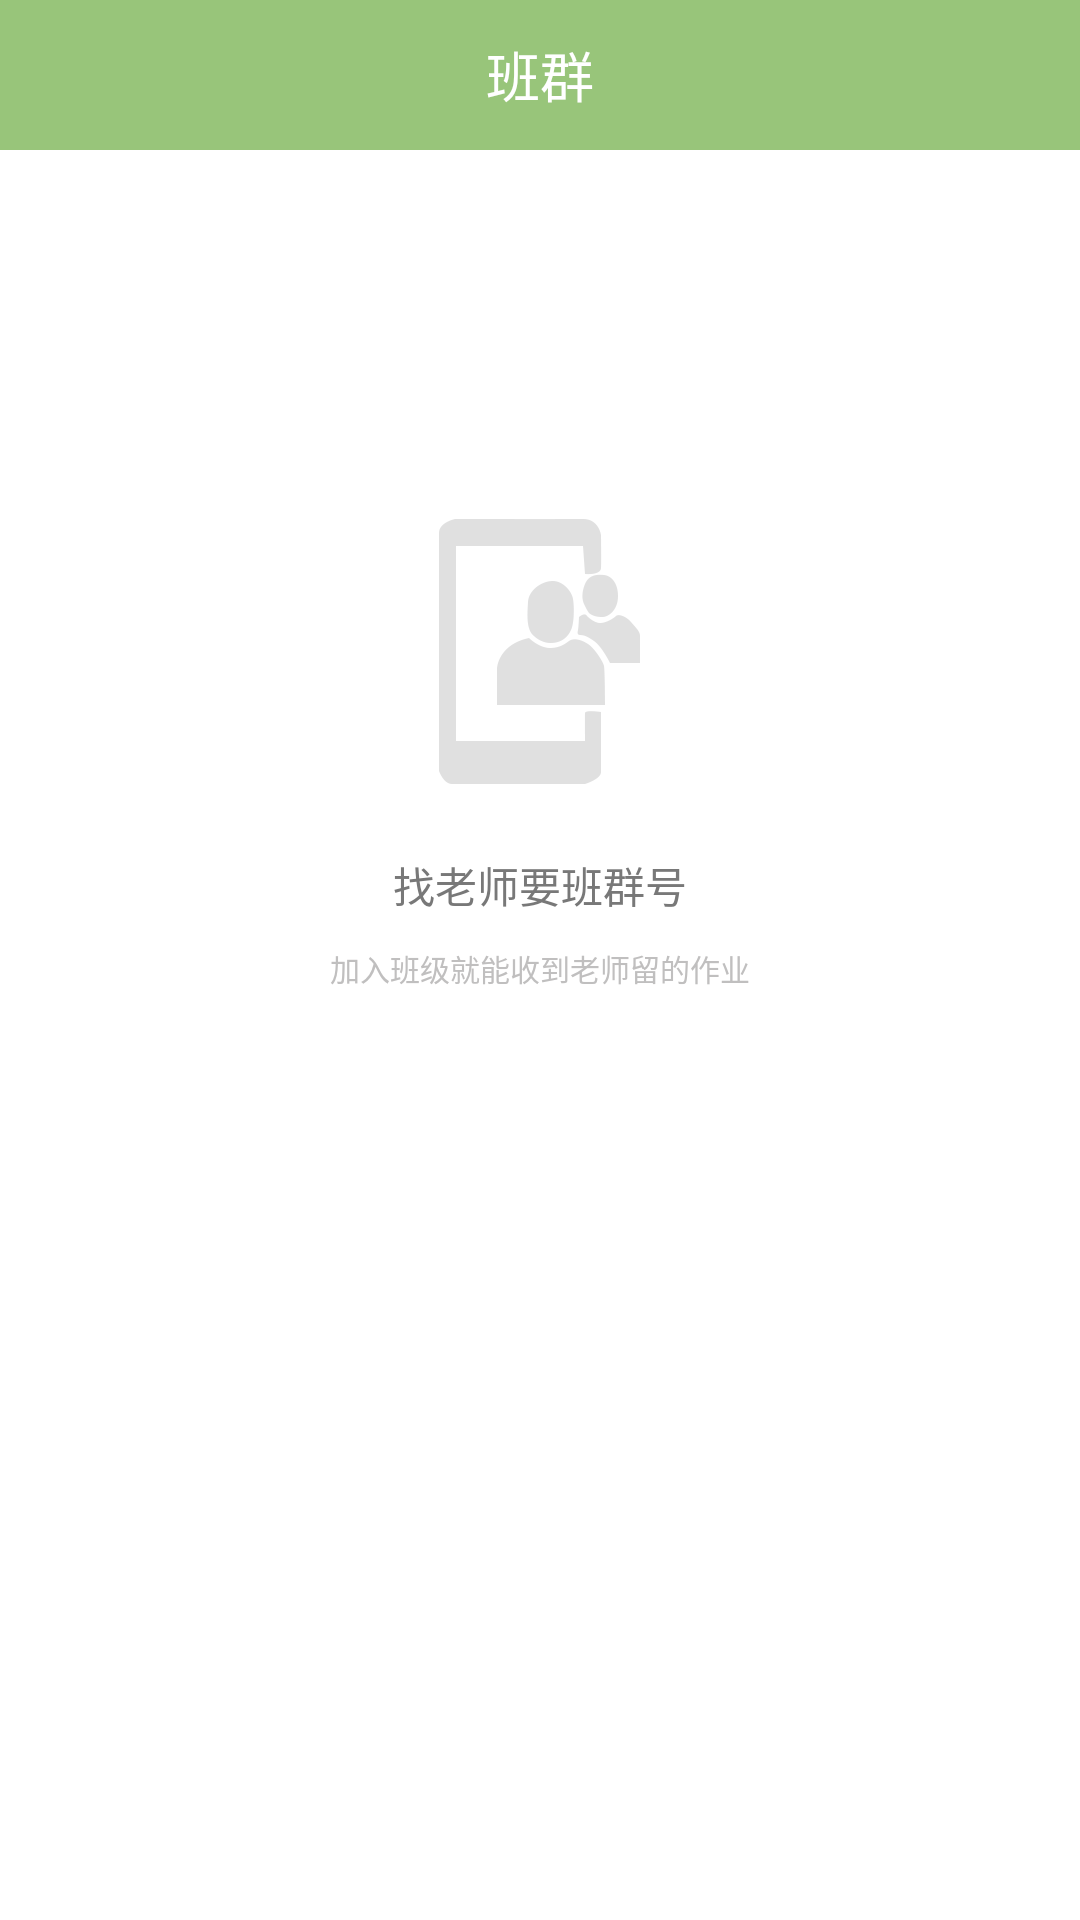

Icons on this 1080 x 1920 Android screen, each with the point to tap as (x=x, y=y):
joinclass: (x=539, y=651)
